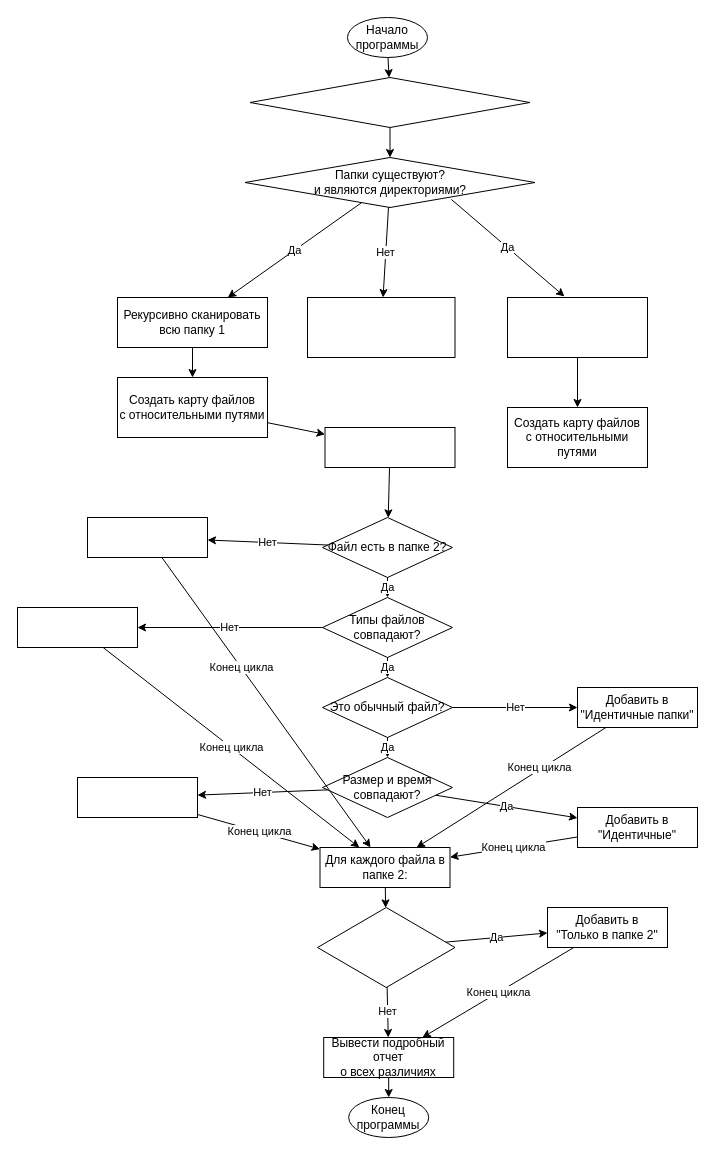
Image size: 715x1155. Some labels were removed from this diagram. The shapes that lost their labels are listed below. From the top down, each one's box as (x1, y1, x2, y2) in pixels, then its label:
(249, 76, 530, 128): Получить пути папок (аргументы или ввод)
(306, 296, 455, 358): Вывести ошибку и завершить программу
(506, 296, 648, 358): Рекурсивно сканировать всю папку 2
(324, 426, 455, 468): Для каждого файла в папке 1:
(86, 516, 208, 558): Добавить в "Только в папке 1"
(16, 606, 138, 648): Добавить в "Разные типы"
(76, 776, 198, 818): Добавить в "Различающиеся"
(316, 906, 455, 988): Файла нет в папке 1?
